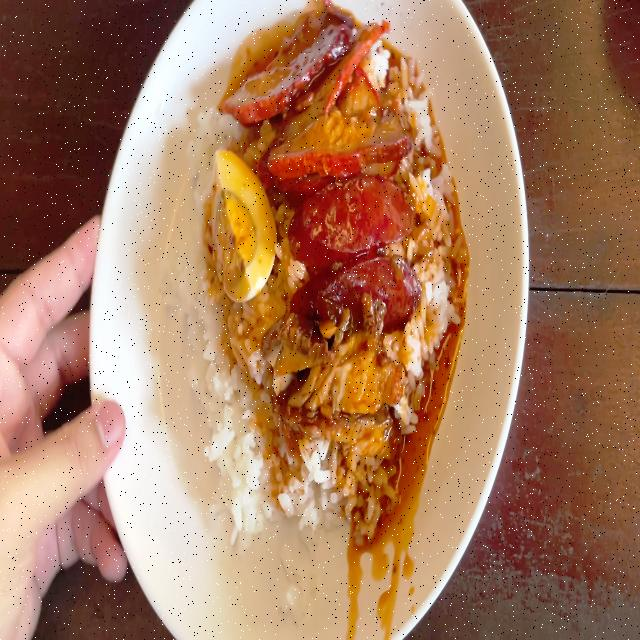boiled_egg: (216, 154, 264, 300)
chainese_sausage: (297, 173, 420, 320)
crispy_pork: (268, 308, 388, 453)
red_pork: (220, 21, 393, 138), (263, 34, 402, 168)
red_pork_and_crispy_pork: (180, 46, 448, 526)
rice: (180, 121, 224, 445), (213, 301, 267, 545), (398, 326, 428, 421)
